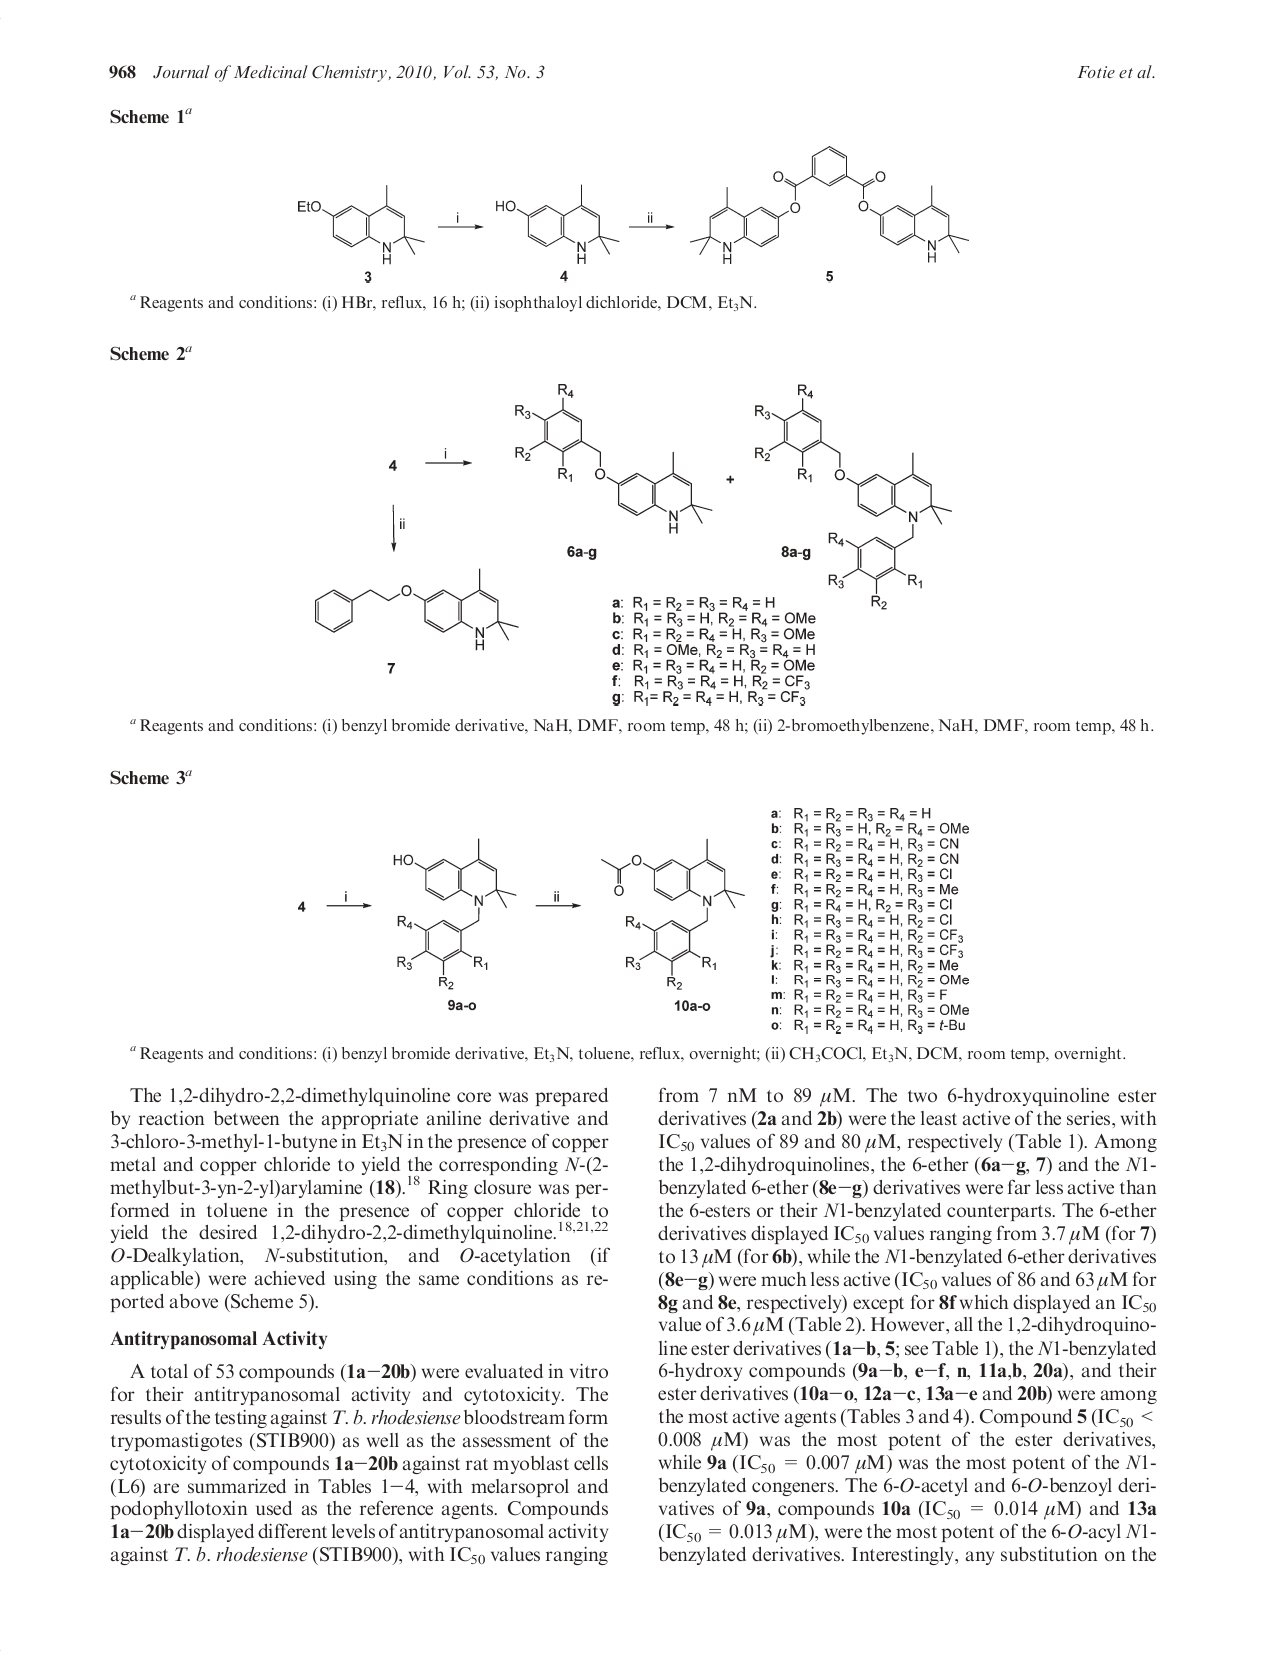exist_molecular: (751, 382, 953, 612), (689, 144, 971, 266), (513, 380, 715, 536), (598, 836, 747, 991), (392, 836, 517, 989), (313, 567, 521, 652), (297, 184, 426, 265), (493, 182, 620, 265)
